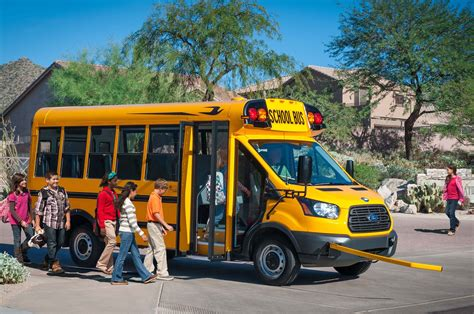bus: (34, 104, 399, 282)
person: (38, 172, 69, 276), (118, 183, 146, 281), (148, 180, 173, 280), (6, 174, 31, 264), (96, 175, 118, 273), (443, 164, 463, 235)
